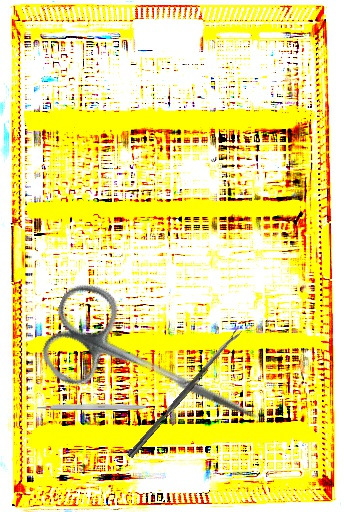Iris Scissors: (31, 275, 280, 461)
Scalpel Handle: (37, 403, 148, 410)
Surgical Spoon: (127, 327, 243, 460)
